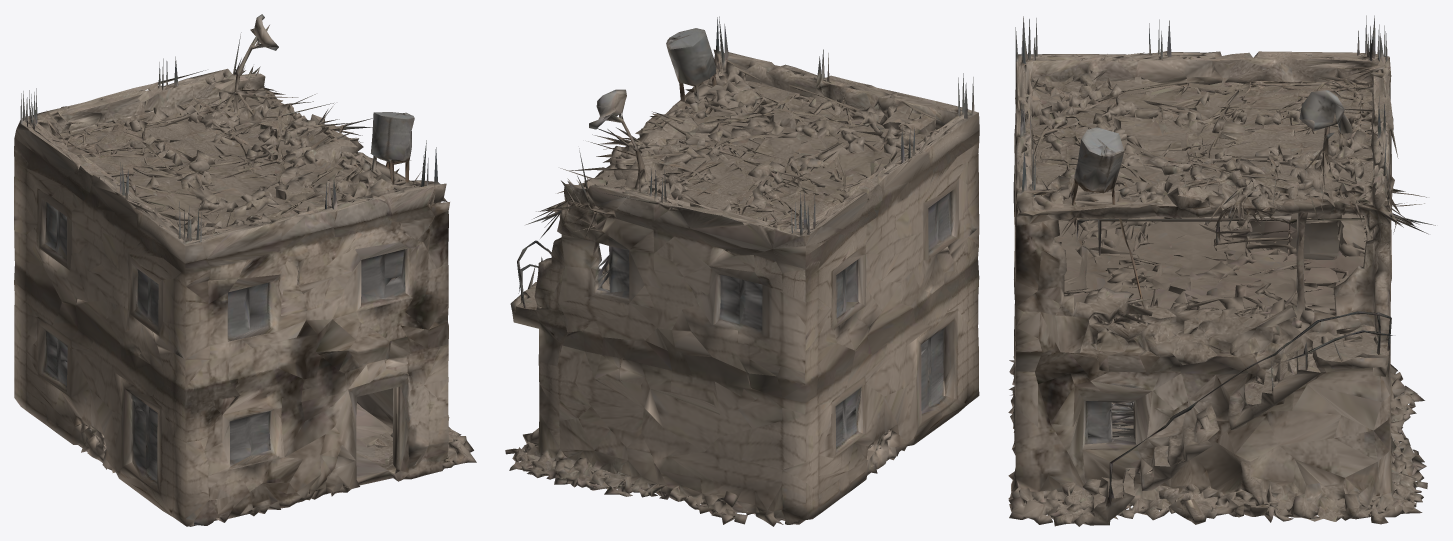
File: house_wreck.glb
The picture shows the model from 3 angles, left to right: view 1: azimuth 30°, elevation 25°; view 2: azimuth 150°, elevation 25°; view 3: azimuth 270°, elevation 25°; orthographic projection. The views are drawn at different scales.
Visible parts, largest first — view 1: wall, roof; view 2: wall, roof; view 3: wall, roof.
Boxes of the visible parts, <box> form: wall: <box>14,14,476,526</box>; roof: <box>22,73,416,480</box>; wall: <box>505,16,979,526</box>; roof: <box>514,28,936,468</box>; wall: <box>1008,15,1435,526</box>; roof: <box>1023,51,1415,521</box>.
Size of the model in its own units: 11.44 by 12.72 by 12.66.
1 material, 1 textured.
